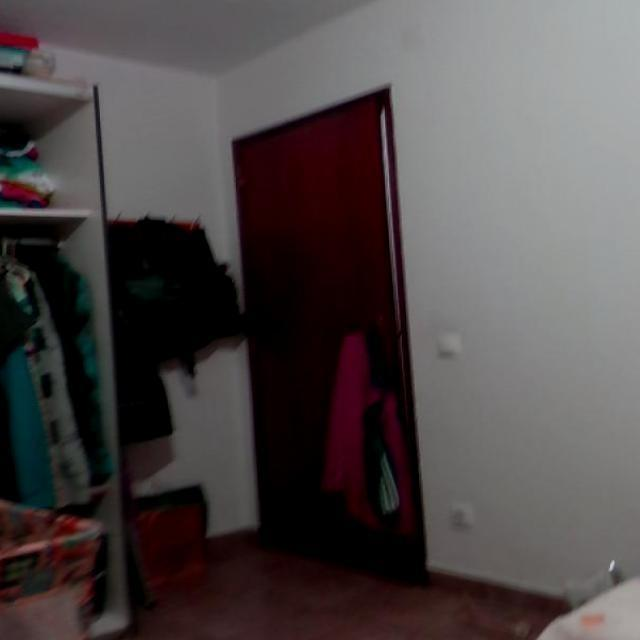door: (230, 84, 429, 584)
